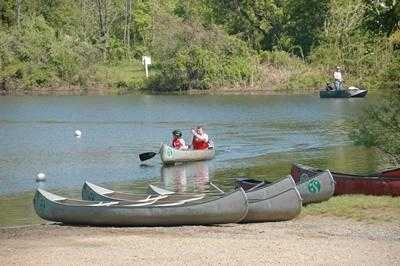kayak: (35, 163, 335, 227), (321, 166, 400, 197), (159, 143, 215, 165), (319, 80, 368, 98)
